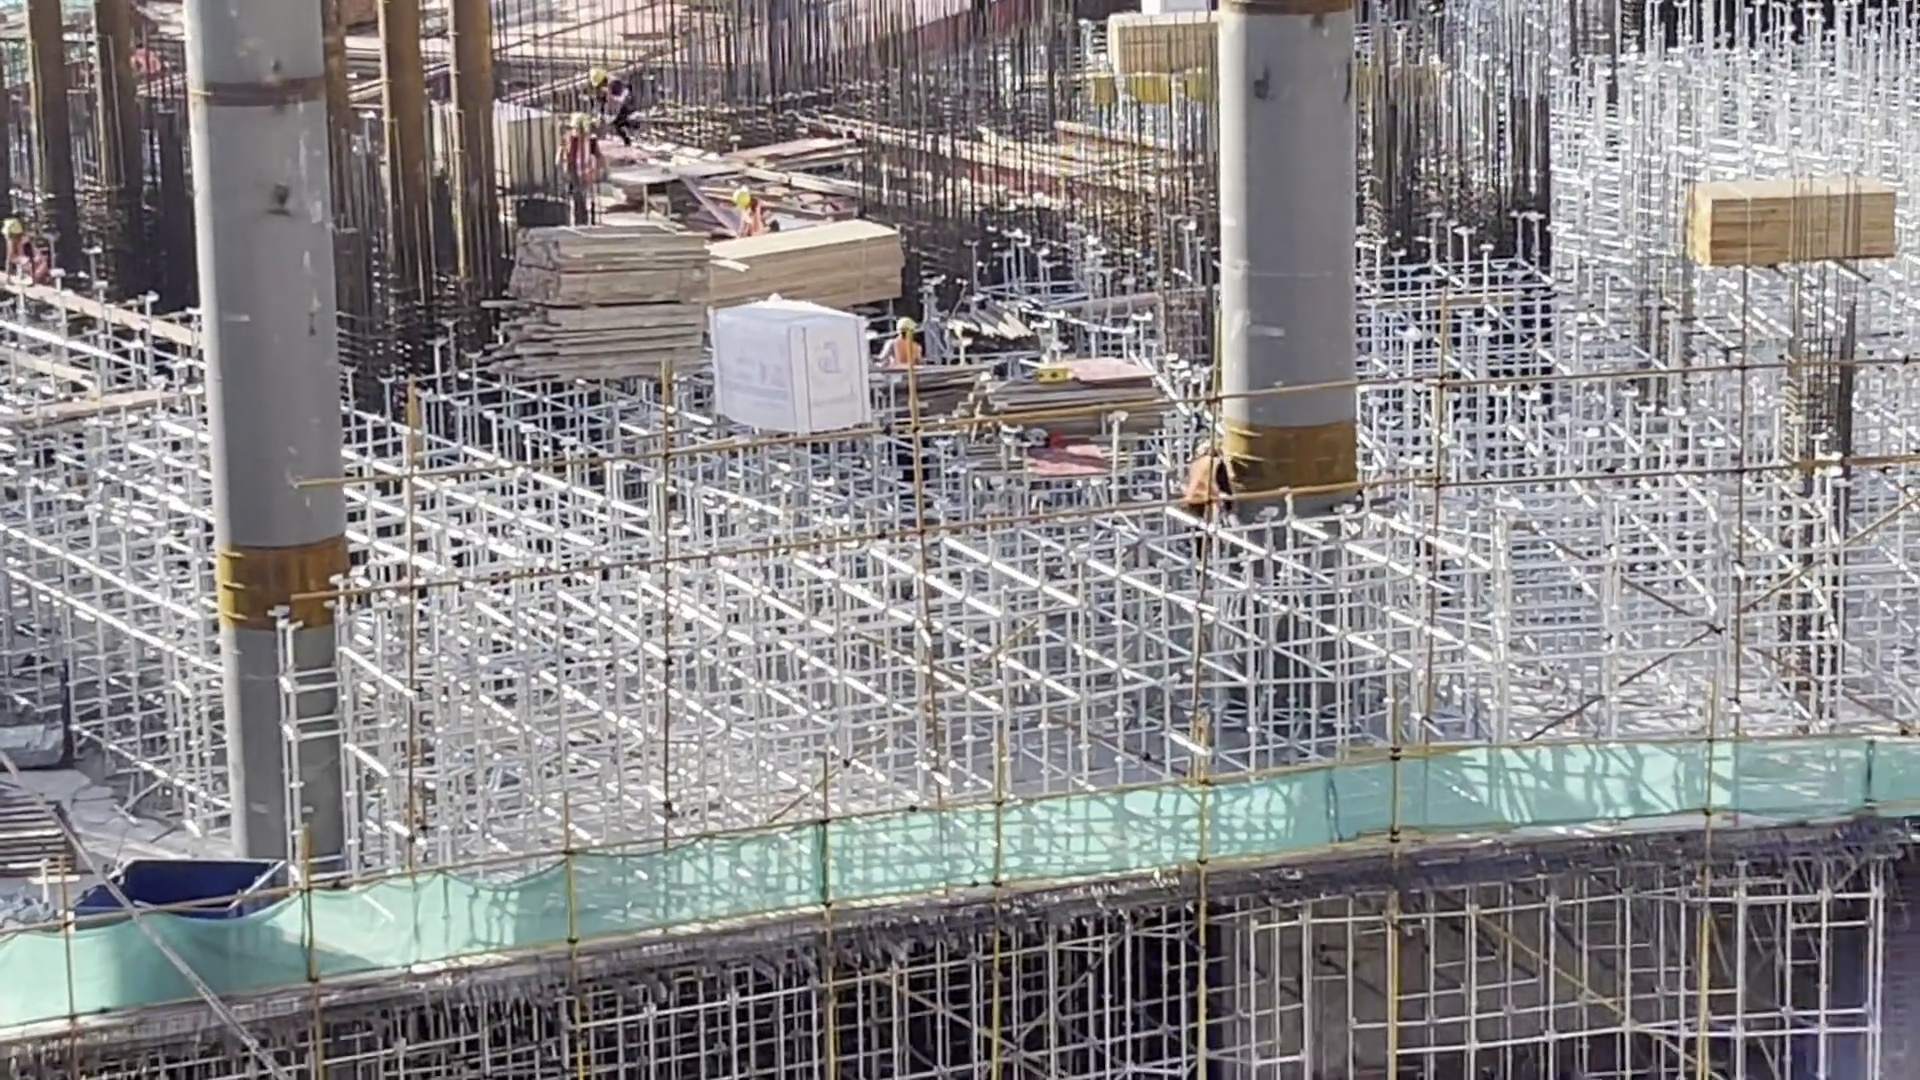board: (978, 352, 1178, 442)
helmet: (569, 110, 588, 130), (891, 315, 918, 330), (2, 219, 22, 236), (590, 68, 607, 89), (734, 188, 752, 209)
hopper: (67, 856, 299, 894)
person: (589, 64, 639, 147), (1192, 439, 1239, 520), (1, 215, 50, 288), (732, 188, 783, 236), (880, 315, 927, 364)
vest: (8, 239, 49, 281), (1194, 455, 1225, 508), (886, 337, 923, 365)
wood: (507, 220, 711, 382), (1682, 175, 1901, 272), (710, 216, 910, 304), (1107, 9, 1221, 80)
